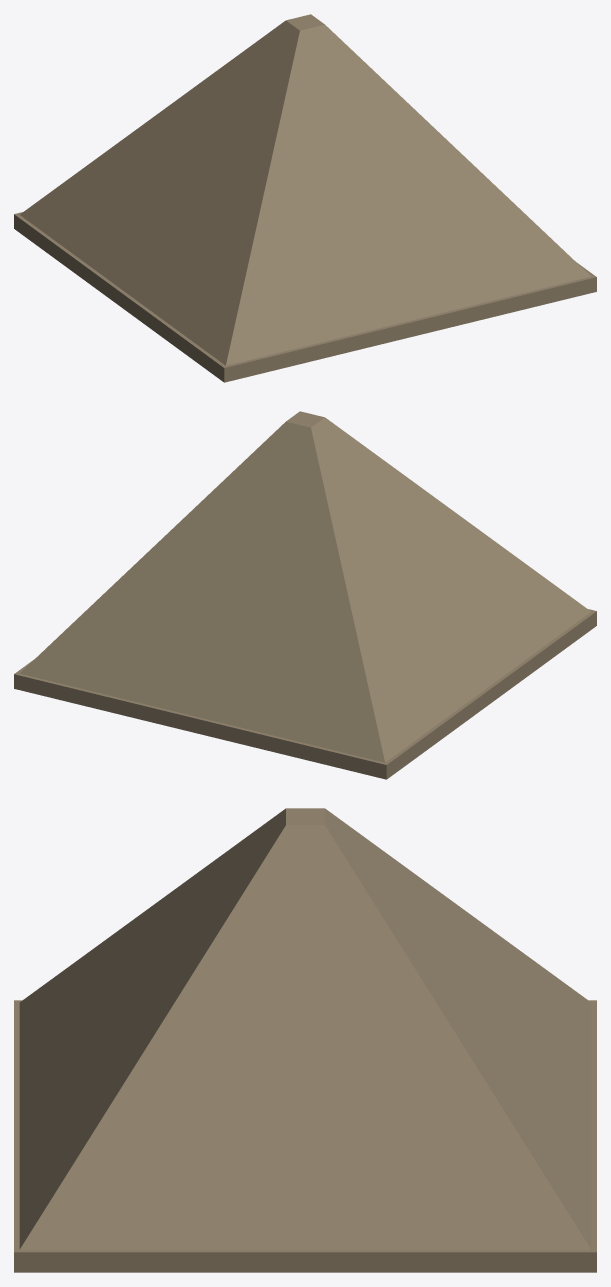
The model's file is pyramid_of_menkaure-r3-lod1.glb.
3 renders of one model, top to bottom at view 1: azimuth 30°, elevation 25°; view 2: azimuth 150°, elevation 25°; view 3: azimuth 270°, elevation 25°, orthographic. The views are drawn at different scales.
Visible parts, largest first — view 1: Giza limestone core blocks; view 2: Giza limestone core blocks; view 3: Giza limestone core blocks.
Boxes of the visible parts, x1,y1,x2,y2 form: Giza limestone core blocks: (14,14,596,382); Giza limestone core blocks: (14,411,596,779); Giza limestone core blocks: (14,808,596,1272).
Bounding box in the file's own units: 107 × 65 × 104.
